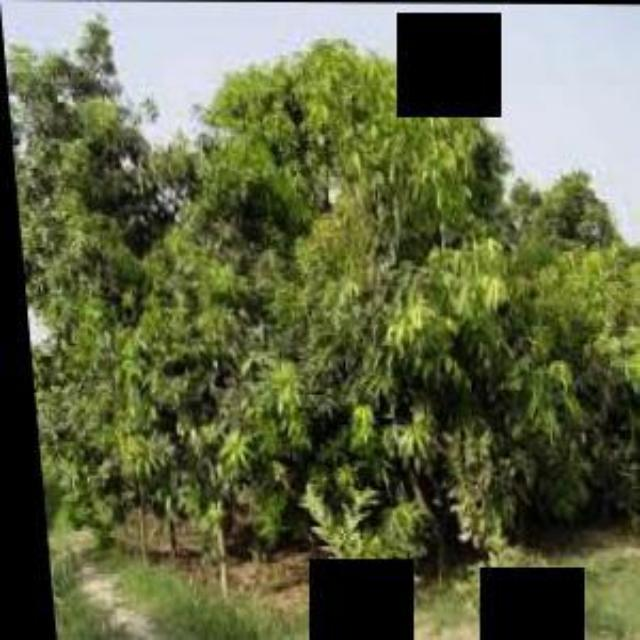tree: (94, 28, 638, 586)
